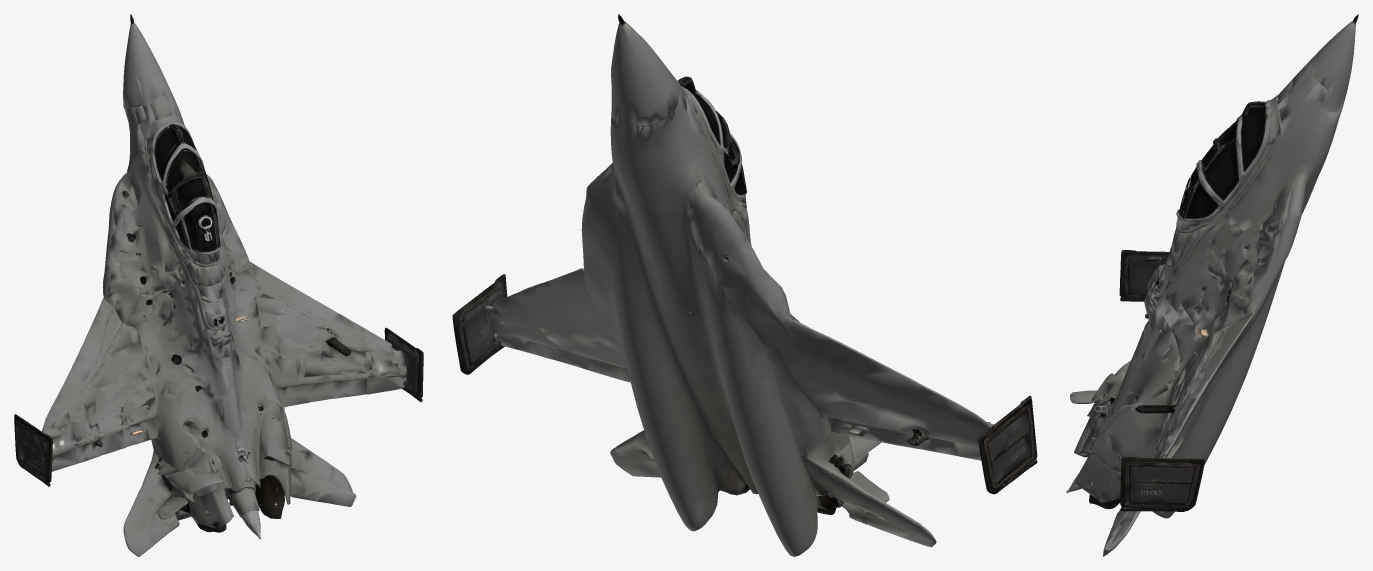
File: warhawk.lod1.glb
3 views of the same model, side by side, from view 1: azimuth 30°, elevation 25°; view 2: azimuth 150°, elevation 25°; view 3: azimuth 270°, elevation 25° (orthographic). The views are drawn at different scales.
Visible parts, largest first — view 1: tripo_node_a4f3a6c4-dfa5-4c3d-a5fd-538af250882d; view 2: tripo_node_a4f3a6c4-dfa5-4c3d-a5fd-538af250882d; view 3: tripo_node_a4f3a6c4-dfa5-4c3d-a5fd-538af250882d.
Boxes of the visible parts, x1=… form: tripo_node_a4f3a6c4-dfa5-4c3d-a5fd-538af250882d: x1=14, y1=14, x2=423, y2=556; tripo_node_a4f3a6c4-dfa5-4c3d-a5fd-538af250882d: x1=452, y1=14, x2=1037, y2=556; tripo_node_a4f3a6c4-dfa5-4c3d-a5fd-538af250882d: x1=1066, y1=14, x2=1358, y2=556.
Bounding box in the file's own units: 0.8848 × 0.9782 × 0.5333.
Materials: 1 (1 with a texture image).
